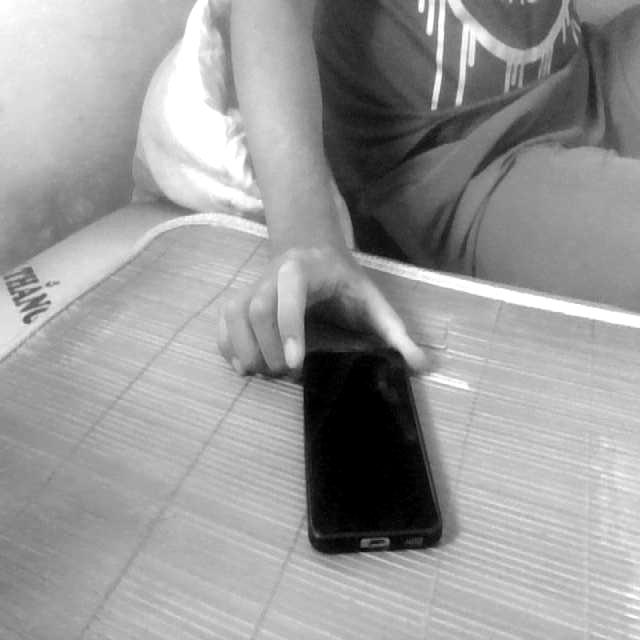phone: (283, 330, 457, 570)
